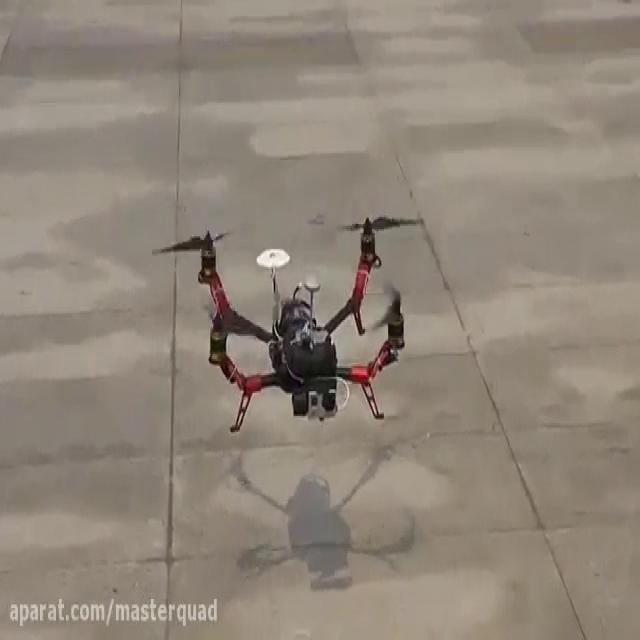drone: (148, 210, 425, 436)
